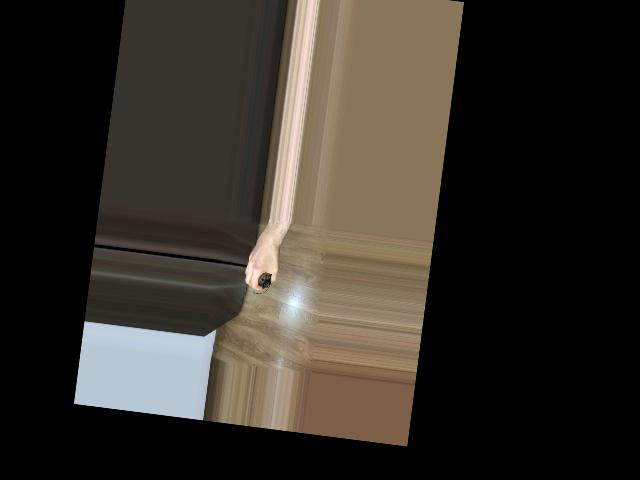beet: (252, 271, 272, 296)
